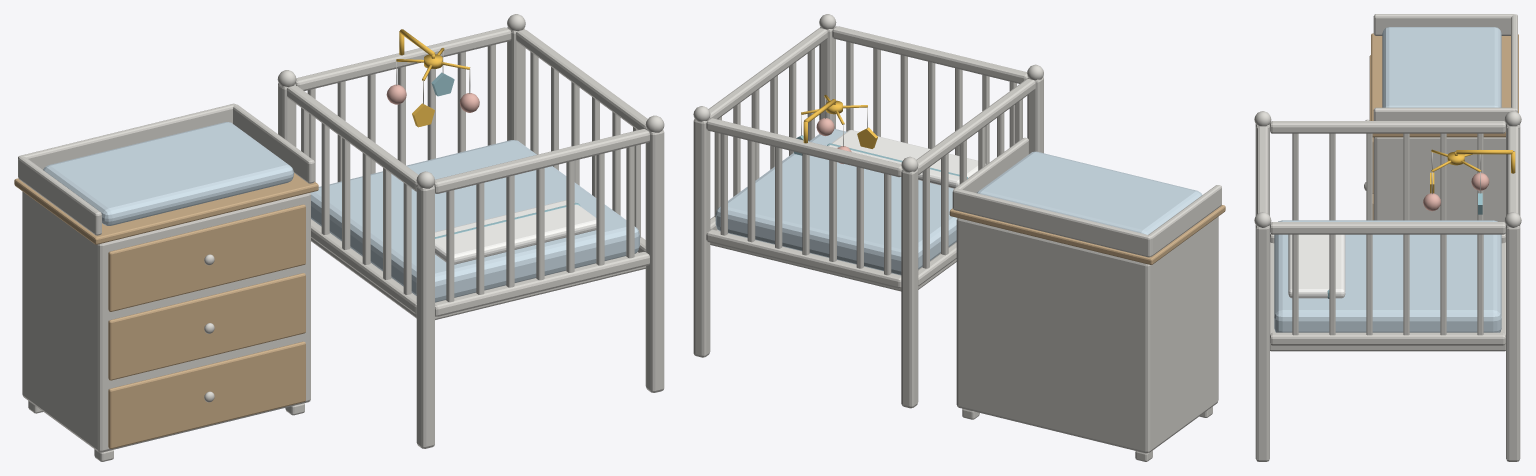
The model's file is crib.glb.
3 renders of one model, left to right at view 1: azimuth 30°, elevation 25°; view 2: azimuth 150°, elevation 25°; view 3: azimuth 270°, elevation 25°, orthographic. The views are drawn at different scales.
Parts seen in each view (by area): view 1: body, front_rail, mobile; view 2: body, front_rail, mobile; view 3: body, mobile, front_rail.
Boxes of the visible parts, bbox=[...] form: body: bbox=[14, 14, 664, 461]; front_rail: bbox=[434, 129, 649, 316]; mobile: bbox=[386, 48, 479, 127]; body: bbox=[693, 14, 1225, 461]; front_rail: bbox=[832, 26, 1027, 164]; mobile: bbox=[794, 94, 877, 164]; body: bbox=[1254, 14, 1521, 461]; mobile: bbox=[1423, 149, 1489, 214]; front_rail: bbox=[1257, 126, 1268, 213].
Size of the model in its own units: 1.86 by 1.01 by 0.94.
